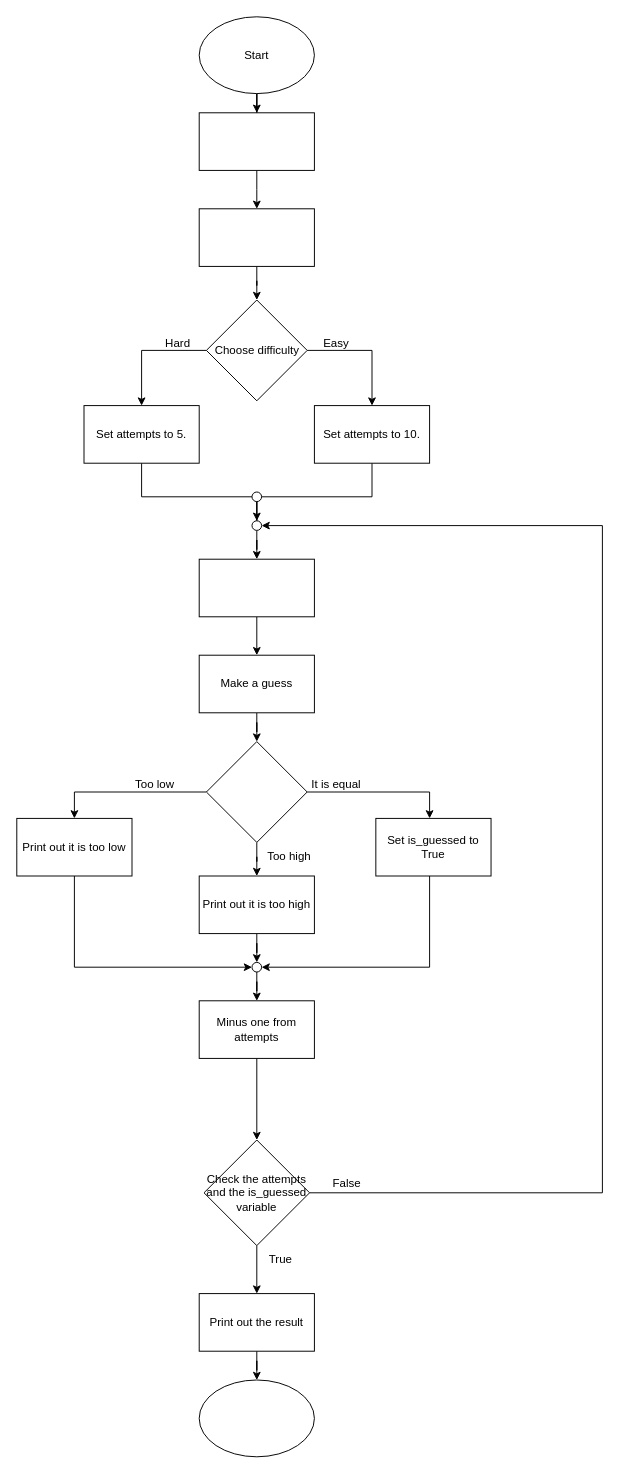
Image size: 627x1474. Some labels were removed from this diagram. Here are the shapes that lost their labels. From the top down, the box of each, then its label:
(198, 112, 314, 170): Print out the welcome message
(198, 208, 314, 266): Set a random number between 1 and 100.
(198, 558, 314, 617): Print out how many attempts the user has left.
(205, 741, 307, 842): Check the number
(198, 1379, 314, 1457): End
